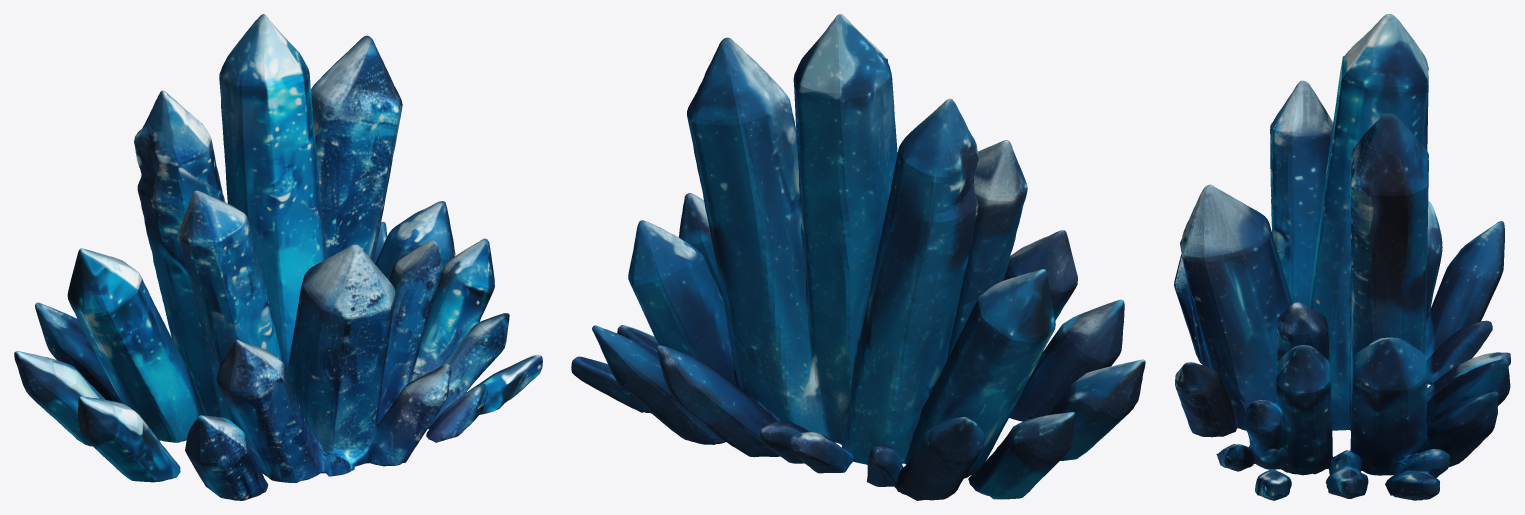
File: magiccrystalix.obj
The picture shows the model from 3 angles, left to right: view 1: azimuth 30°, elevation 25°; view 2: azimuth 150°, elevation 25°; view 3: azimuth 270°, elevation 25°; orthographic projection. The views are drawn at different scales.
Size of the model in its own units: 1.78 by 1.46 by 1.12.
1 material, 1 textured.
